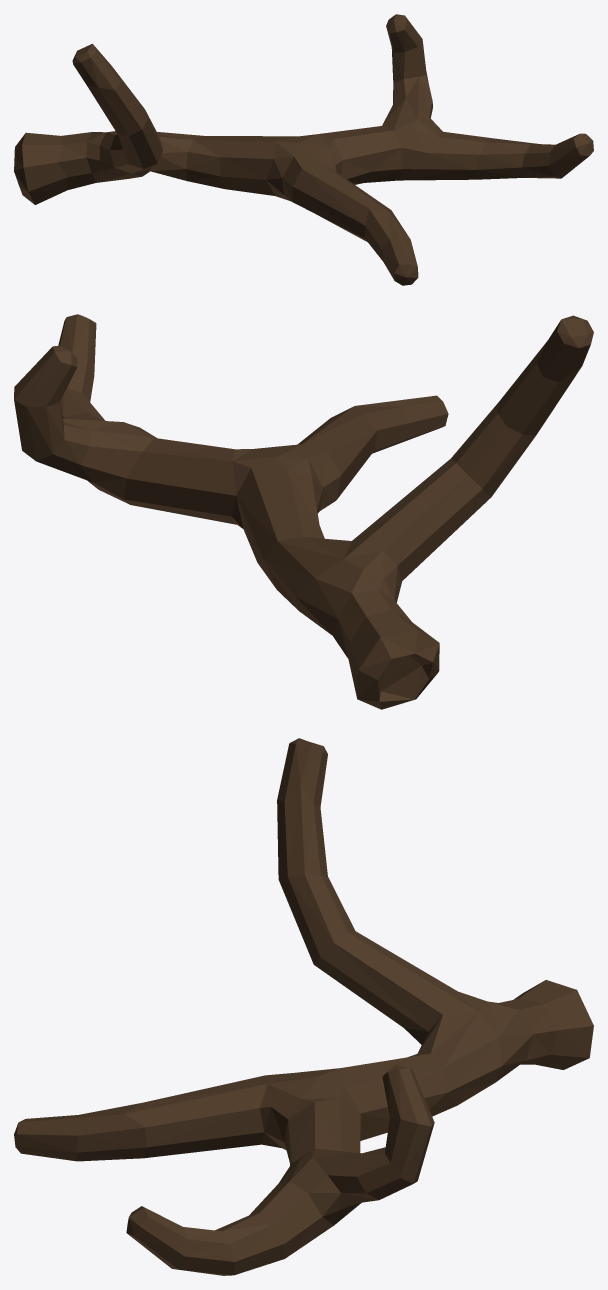
Rendered from EM_Branch03b.fbx.
3 views of the same model, one above another, from view 1: azimuth 30°, elevation 25°; view 2: azimuth 150°, elevation 25°; view 3: azimuth 270°, elevation 25° (orthographic). The views are drawn at different scales.
Visible parts, largest first — view 1: EM_Branch03b_LOD0; view 2: EM_Branch03b_LOD0; view 3: EM_Branch03b_LOD0.
Part boxes in pixels (<box>): EM_Branch03b_LOD0: <box>14,14,593,285</box>; EM_Branch03b_LOD0: <box>14,314,593,709</box>; EM_Branch03b_LOD0: <box>14,738,593,1275</box>.
Size of what is drawn, in the model's own units: 1.07 by 0.5162 by 0.8983.
